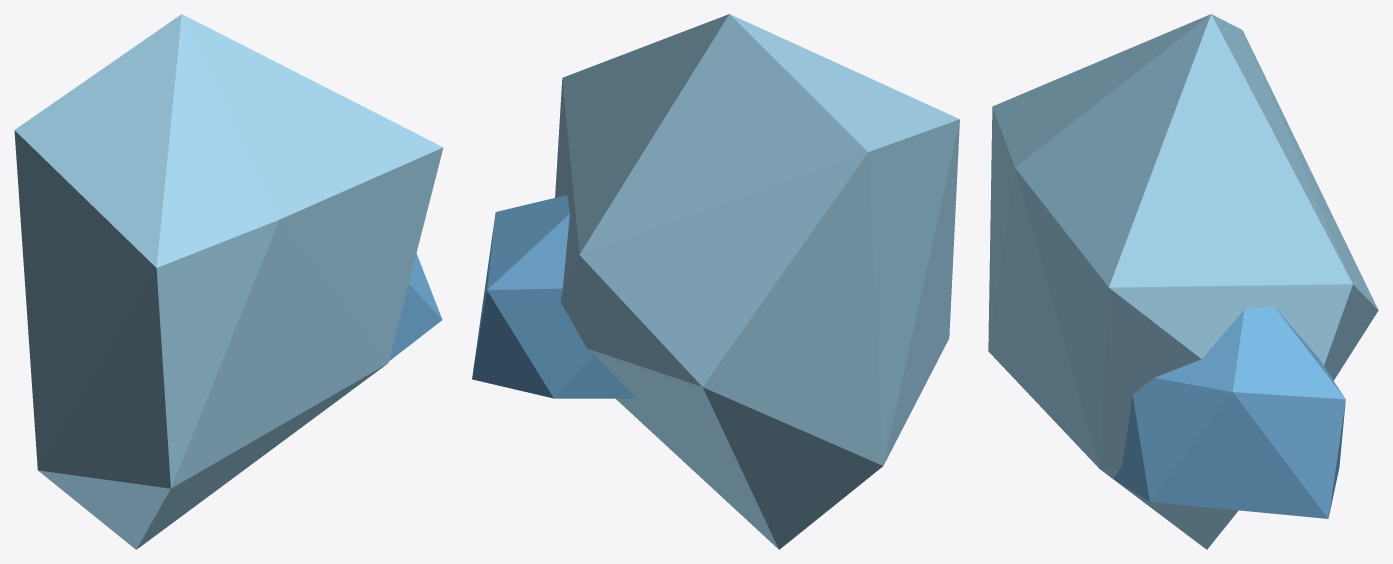
File: iceberg.fbx
3 views of the same model, side by side, from view 1: azimuth 30°, elevation 25°; view 2: azimuth 150°, elevation 25°; view 3: azimuth 270°, elevation 25° (orthographic). The views are drawn at different scales.
Visible parts, largest first — view 1: iceberg; view 2: iceberg; view 3: iceberg.
Part boxes in pixels (x1,y1,x2,y2): iceberg: [14, 14, 443, 549]; iceberg: [472, 14, 959, 549]; iceberg: [988, 14, 1378, 549].
Bounding box in the file's own units: 3.3 × 4.28 × 2.7.
